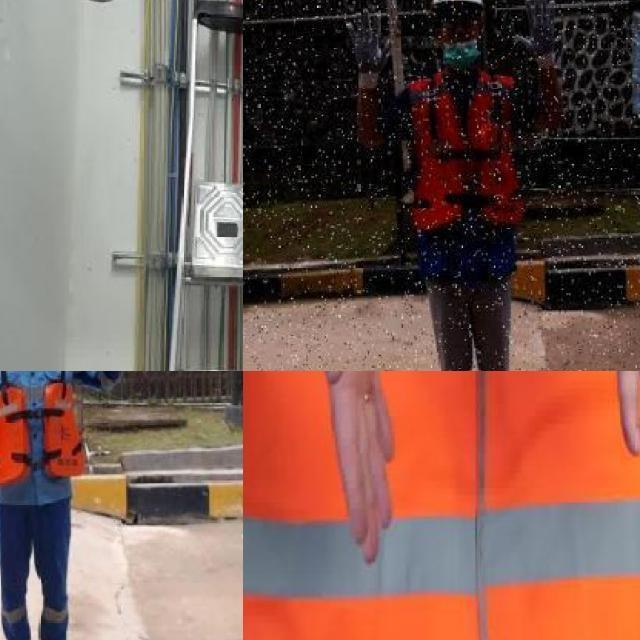apron: (346, 7, 392, 92), (513, 0, 556, 71)
